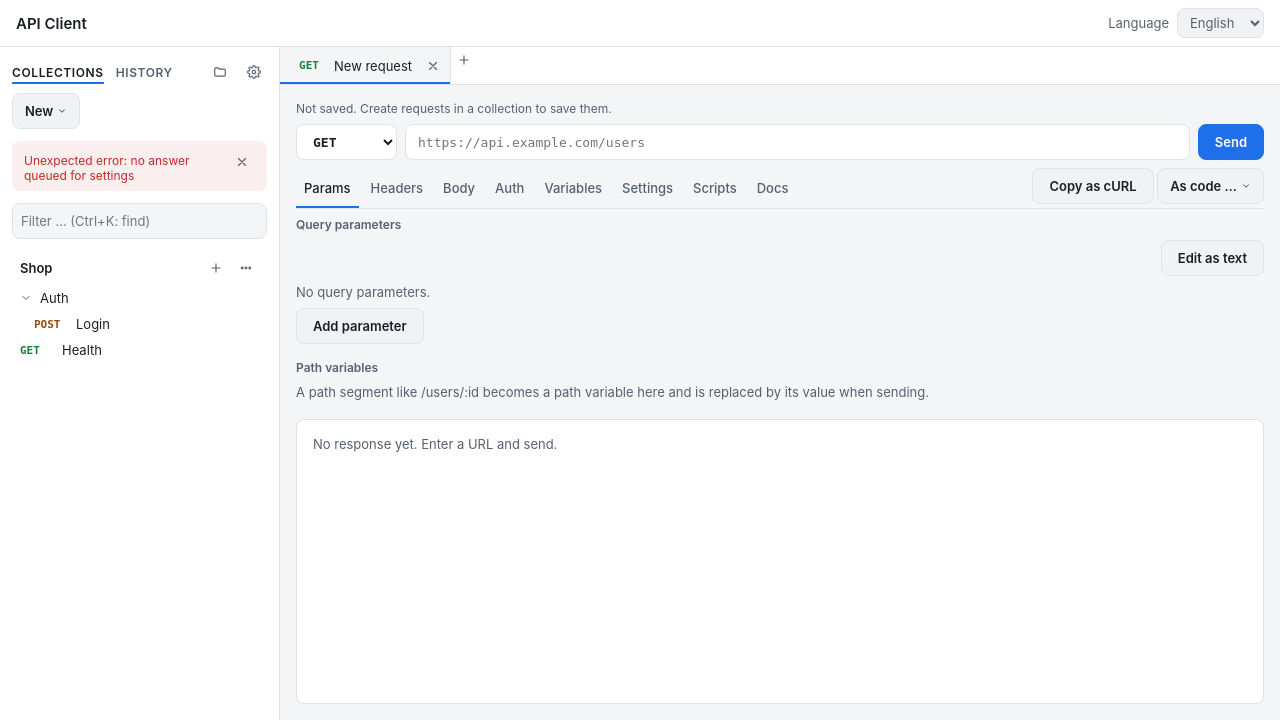
WorkspacePage › shows the restored collection as a tree
This screenshot has width=1280, height=720.
Check: the text "Health" is shown, box top-left (62, 342), bottom-right (102, 358)
Check: the text "Shop" is shown, box top-left (20, 260), bottom-right (52, 276)
What coordinates should you click on to do the following:
click the button "Auth"
I would click on:
 (124, 298)
Its box is top-left (12, 285), bottom-right (237, 311).
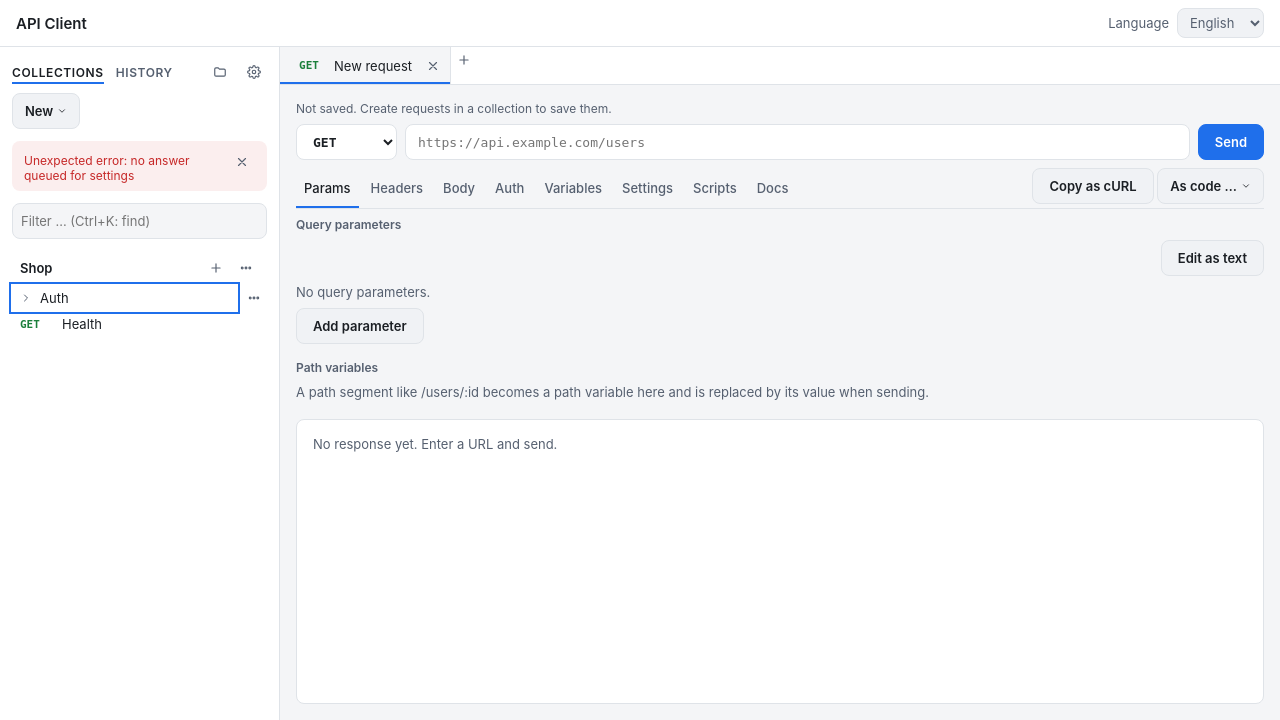
Check: the button "Login" is gone
